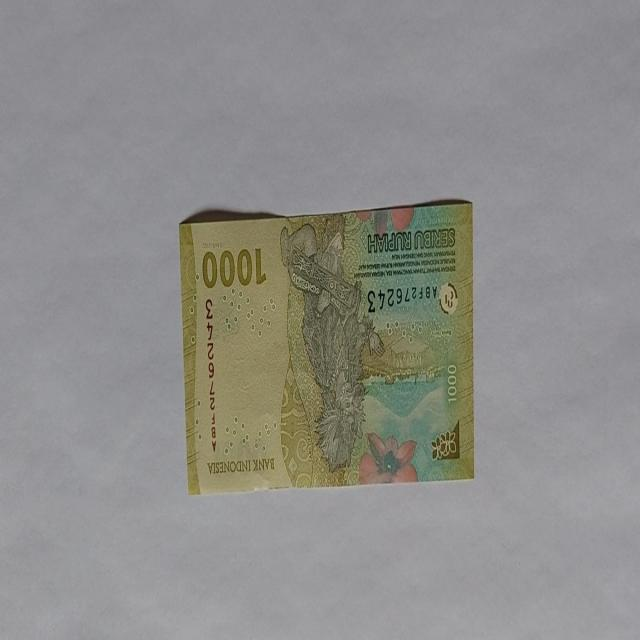seribu rupiah kertas: (178, 199, 474, 495)
